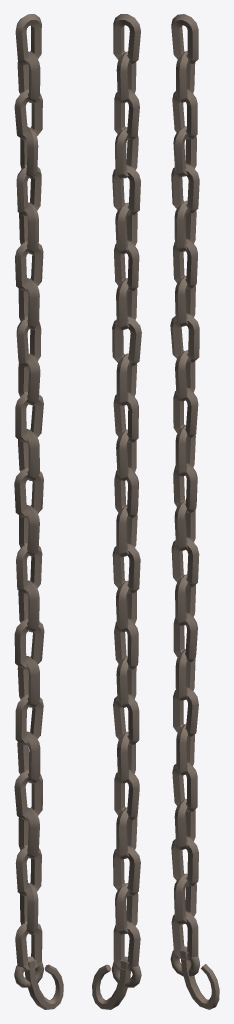
The model's file is chain_hanging.glb.
3 views of the same model, side by side, from view 1: azimuth 30°, elevation 25°; view 2: azimuth 150°, elevation 25°; view 3: azimuth 330°, elevation 25° (orthographic).
Parts seen in each view (by area): view 1: chain_hanging; view 2: chain_hanging; view 3: chain_hanging.
Boxes of the visible parts, left/top/right/bottom form: chain_hanging: left=14, top=14, right=63, bottom=1009; chain_hanging: left=92, top=14, right=141, bottom=1009; chain_hanging: left=170, top=14, right=219, bottom=1009.
Size of the model in its own units: 0.1644 by 3.18 by 0.0936.
